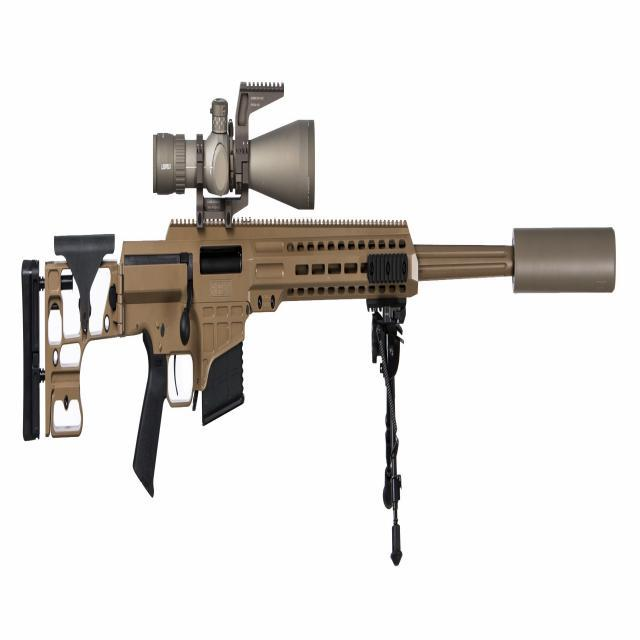scope: (161, 34, 324, 209)
sniper rifle: (17, 62, 618, 577)
